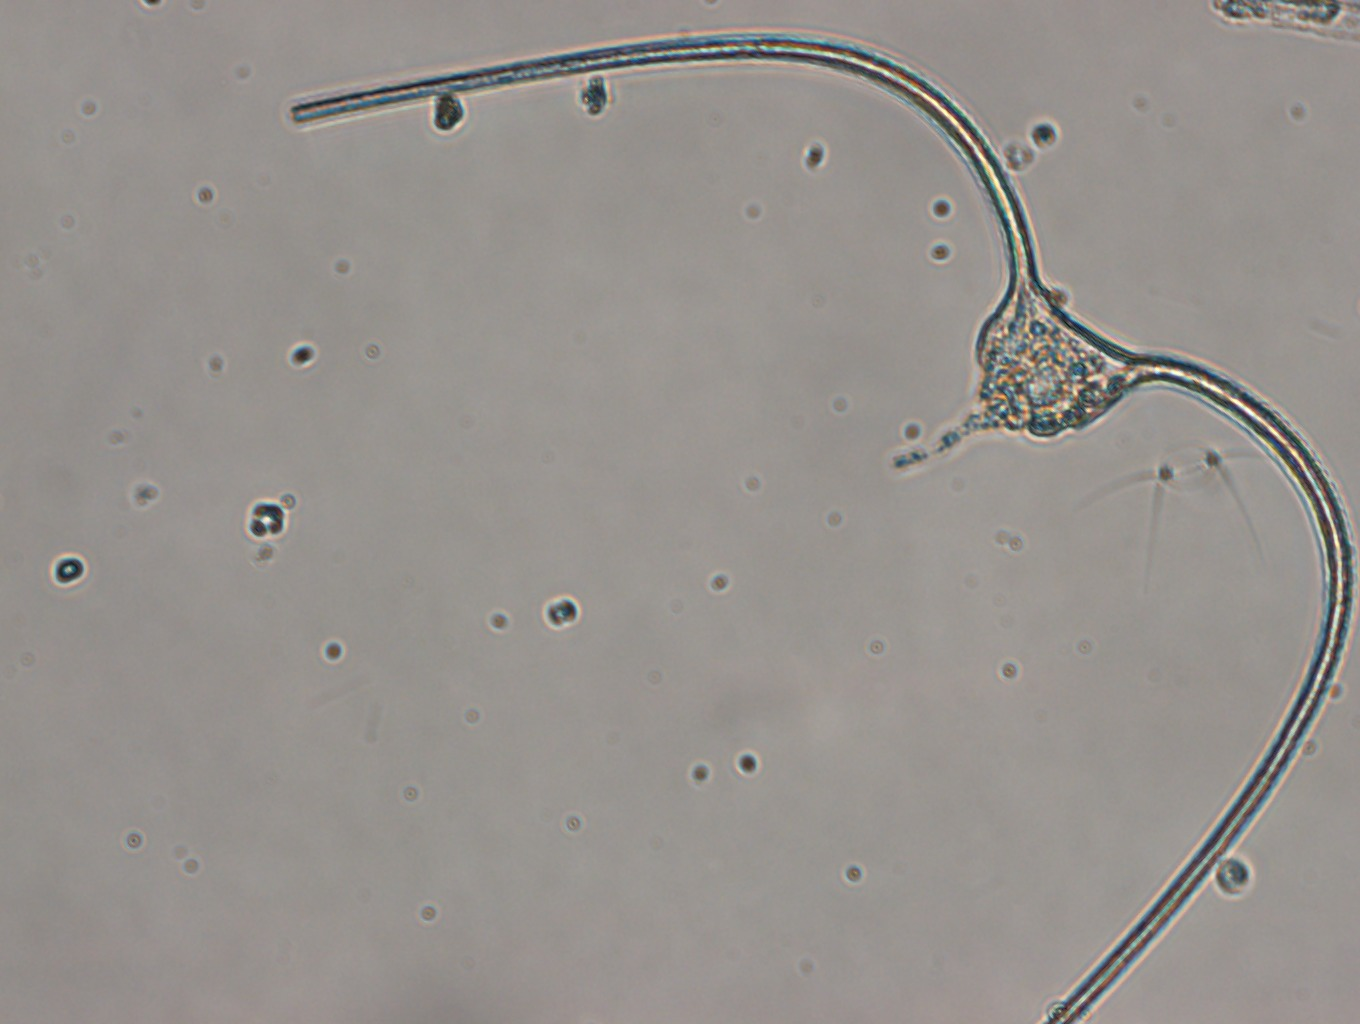ceratium trichoceros: (287, 31, 1360, 1018)
